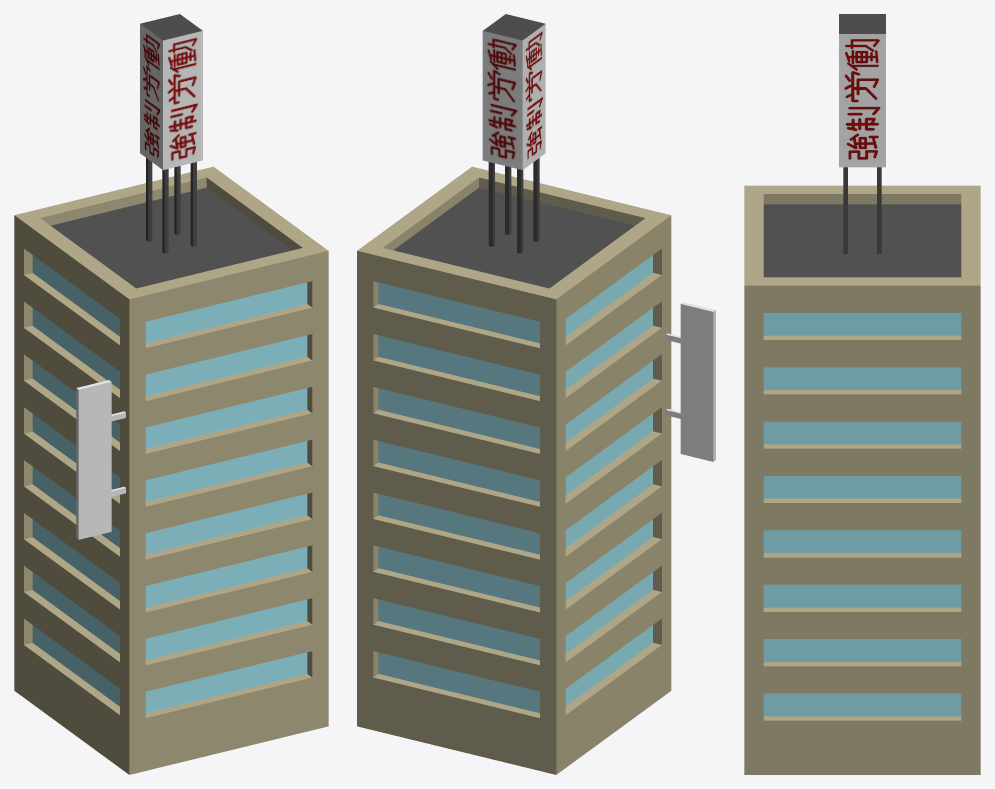
File: build2.fbx
3 views of the same model, side by side, from view 1: azimuth 30°, elevation 25°; view 2: azimuth 150°, elevation 25°; view 3: azimuth 270°, elevation 25° (orthographic). The views are drawn at different scales.
Parts seen in each view (by area): view 1: build2, sign; view 2: build2, sign; view 3: build2, sign.
Part boxes in pixels (left/top/right/bottom): build2: left=14, top=166, right=328, bottom=774; sign: left=140, top=14, right=202, bottom=253; build2: left=357, top=166, right=715, bottom=774; sign: left=482, top=14, right=545, bottom=253; build2: left=744, top=185, right=980, bottom=774; sign: left=839, top=14, right=885, bottom=253.
Size of the model in its own units: 361 by 447 by 1180.
